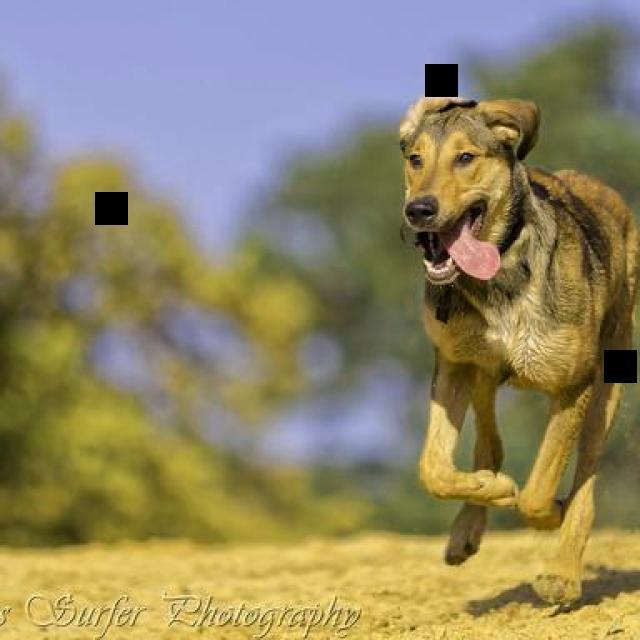adult_dog: (401, 91, 640, 610)
